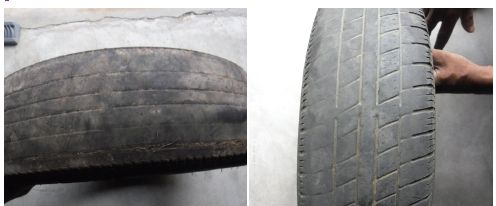bad_condition: (2, 45, 248, 178), (300, 9, 438, 204)
